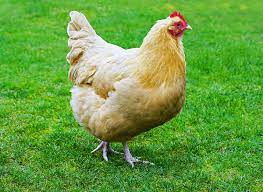buff: (55, 6, 201, 141)
